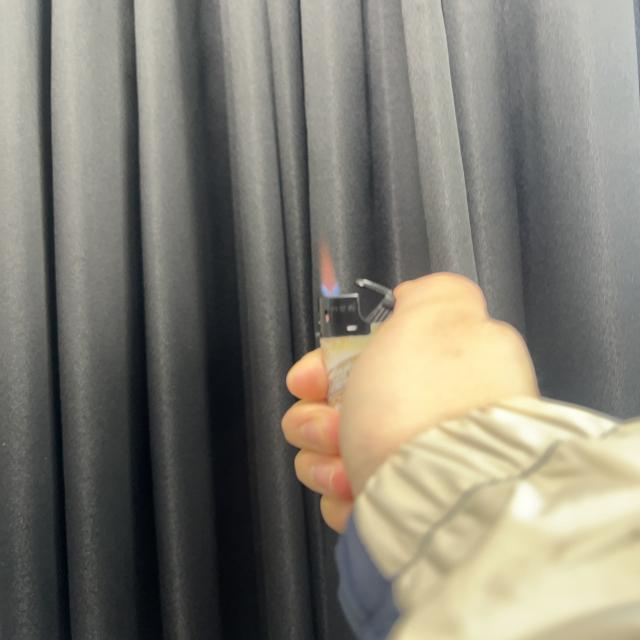fire: (322, 241, 341, 298)
